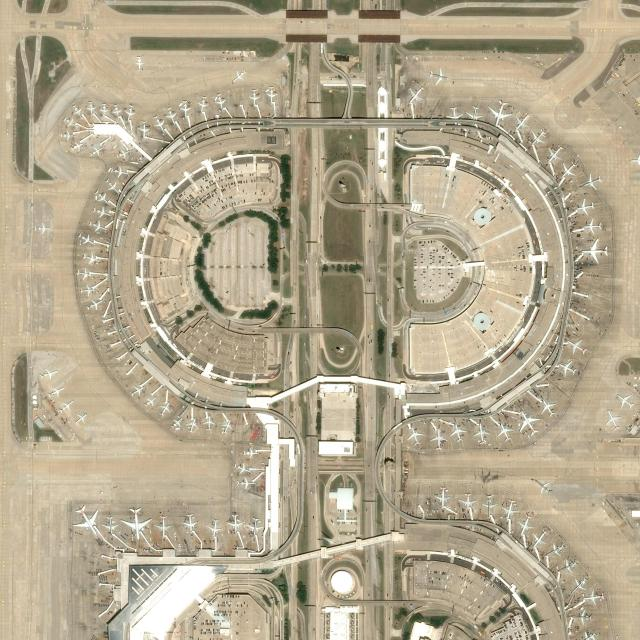aircraft: (120, 507, 152, 540), (72, 505, 98, 535), (578, 238, 610, 262), (489, 100, 512, 124), (520, 411, 540, 435), (582, 588, 606, 605), (501, 499, 519, 521), (604, 409, 622, 431), (566, 337, 588, 355), (580, 171, 602, 189), (154, 515, 172, 537), (430, 429, 448, 450), (513, 110, 531, 131), (582, 218, 604, 235), (545, 543, 568, 559), (516, 516, 534, 536), (547, 144, 565, 164), (528, 128, 548, 146), (465, 104, 483, 124), (227, 513, 245, 533), (434, 487, 450, 509), (574, 198, 596, 214), (428, 68, 450, 84), (406, 427, 424, 446), (406, 85, 424, 104), (474, 424, 491, 444), (205, 518, 222, 538), (449, 424, 467, 442), (481, 494, 497, 514), (533, 478, 553, 494), (247, 518, 263, 538), (182, 513, 198, 533), (459, 493, 476, 511), (616, 393, 634, 410), (560, 161, 578, 178), (102, 516, 118, 535), (558, 559, 579, 573), (531, 530, 547, 548), (497, 424, 513, 442), (540, 400, 556, 418), (558, 360, 577, 374), (85, 298, 104, 312), (94, 190, 110, 206), (447, 105, 462, 122), (220, 418, 235, 435), (75, 266, 93, 280), (78, 232, 96, 246), (164, 106, 178, 124), (572, 578, 588, 593), (238, 478, 258, 490), (88, 220, 108, 232), (137, 121, 150, 139), (91, 207, 112, 218), (104, 178, 119, 193), (56, 400, 72, 414), (202, 415, 216, 431), (152, 115, 166, 131), (34, 222, 51, 235), (214, 92, 227, 109), (40, 368, 58, 380), (47, 385, 65, 397), (78, 284, 96, 296), (82, 252, 100, 264), (110, 165, 128, 177), (62, 116, 80, 128), (73, 411, 87, 426), (232, 68, 247, 82), (234, 462, 250, 475), (197, 95, 208, 113), (158, 402, 172, 416), (243, 446, 259, 458), (186, 416, 198, 432), (248, 90, 260, 106), (129, 384, 143, 397), (142, 395, 157, 407), (180, 100, 190, 118), (111, 104, 122, 120), (124, 104, 134, 121), (99, 102, 109, 119), (71, 103, 83, 117), (115, 148, 131, 158), (266, 86, 276, 102), (86, 101, 96, 117), (88, 145, 104, 155), (170, 416, 182, 429), (71, 142, 84, 154), (133, 56, 144, 70), (60, 130, 74, 140)
